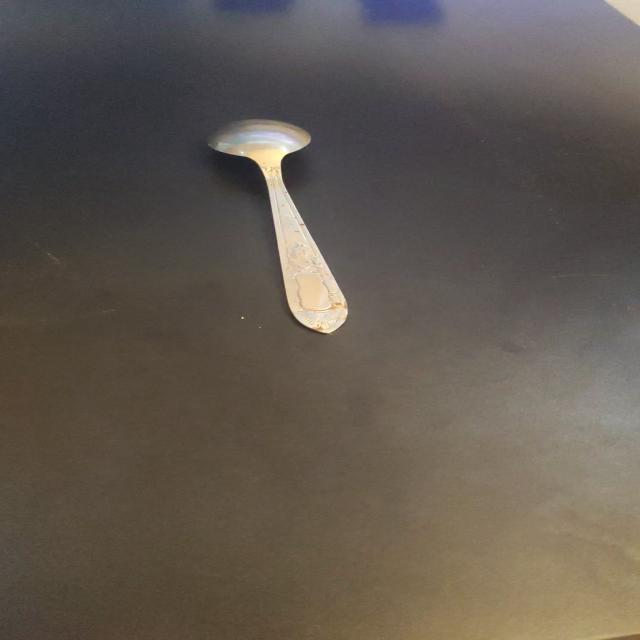plastic utensil: (209, 120, 347, 332)
